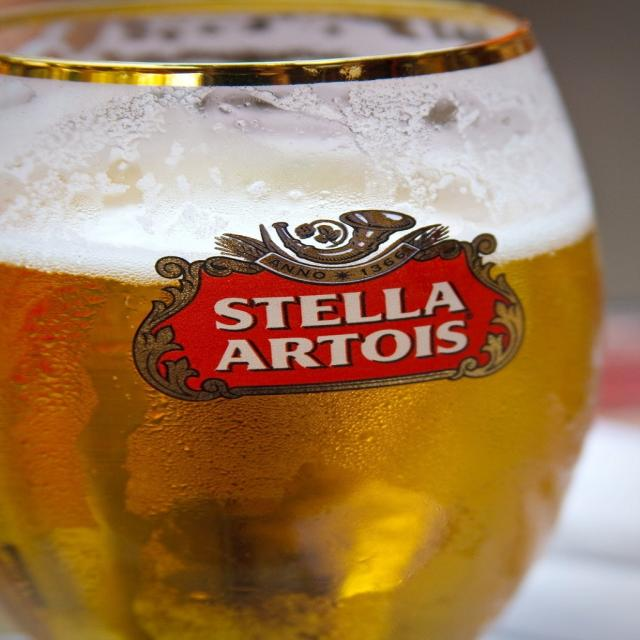stellaartois: (129, 207, 534, 406)
